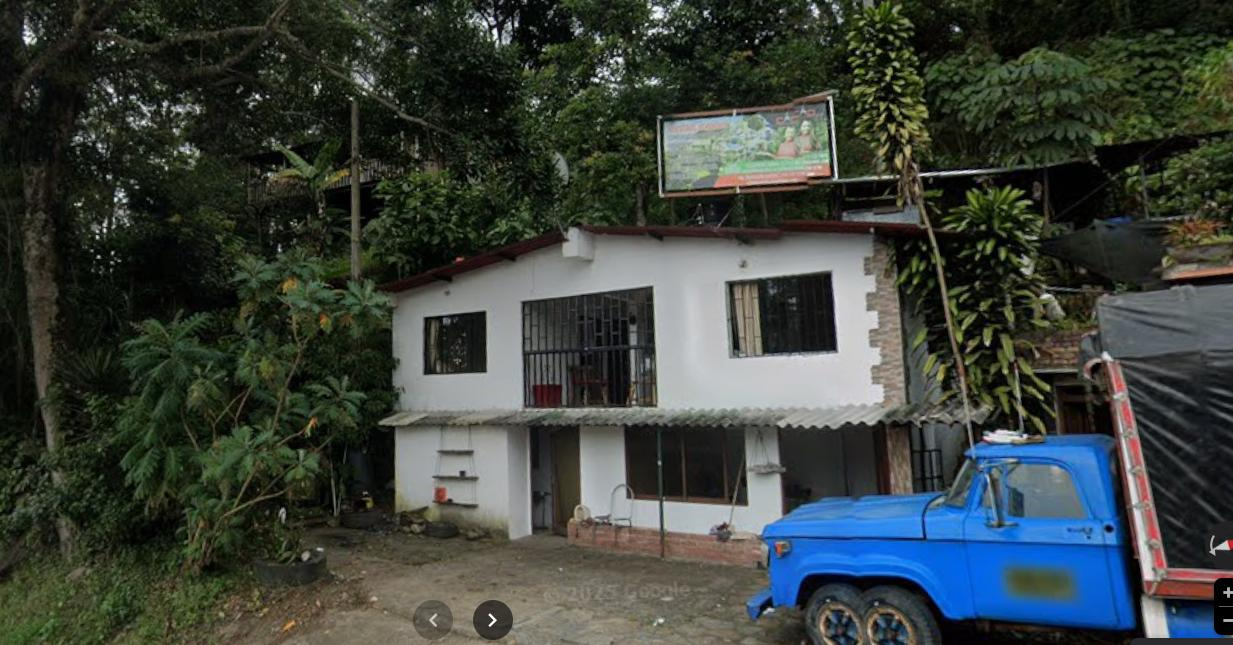casa: (380, 132, 1232, 564)
poste: (350, 99, 361, 278)
